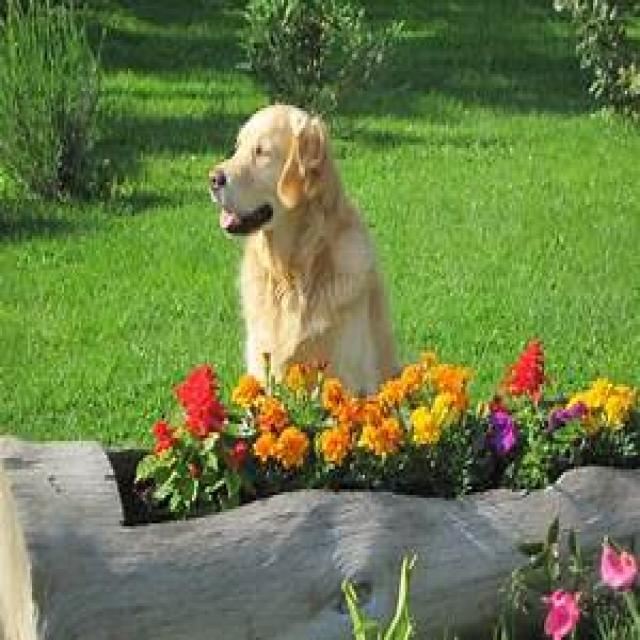KOPEK: (200, 81, 430, 412)
